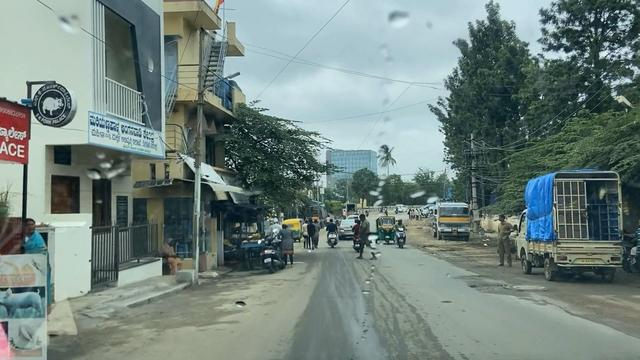RoadDamages: (456, 270, 541, 309), (203, 291, 254, 325)
